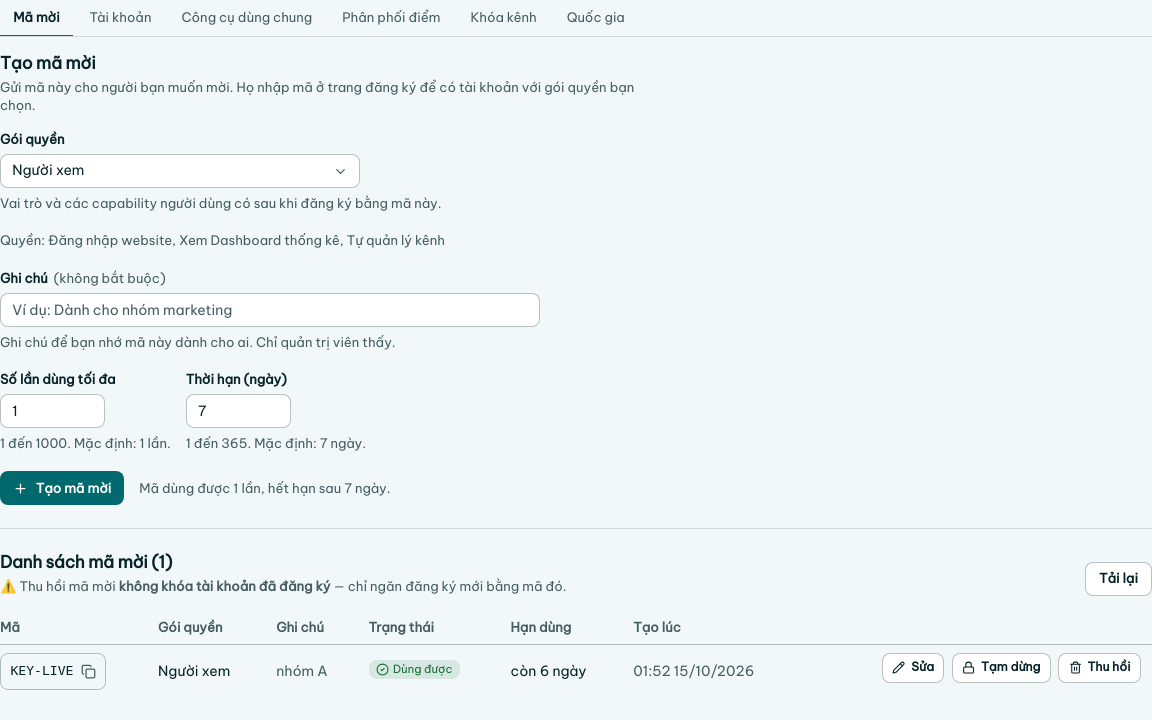
Test case: AdminPage — sửa mã mời (PATCH) › dialog ghi rõ chỉ áp dụng cho lần đăng ký sau
The image size is (1152, 720).
(page scrolled)
Expected: the button "KEY-LIVE" is shown, top-left (0, 653), bottom-right (106, 690)
Click the button with aria-label "Sửa mã KEY-LIVE".
click(913, 668)  # box top-left (882, 653), bottom-right (944, 683)
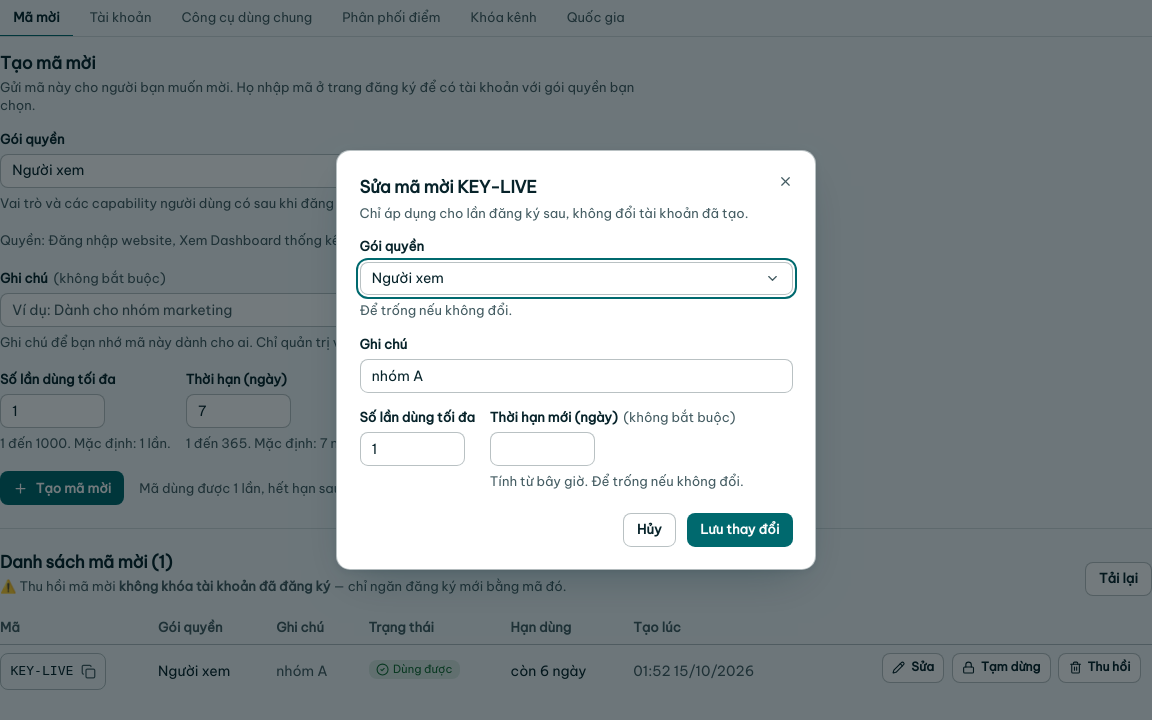
Now the text "Chỉ áp dụng cho lần đăng ký sau, không đổi tài khoản đã tạo." is shown, box top-left (360, 203), bottom-right (792, 222)
